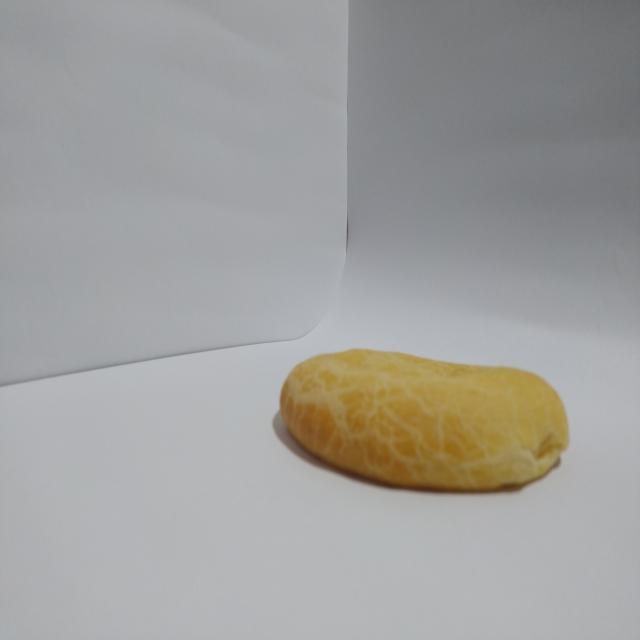Food: (260, 342, 578, 516)
